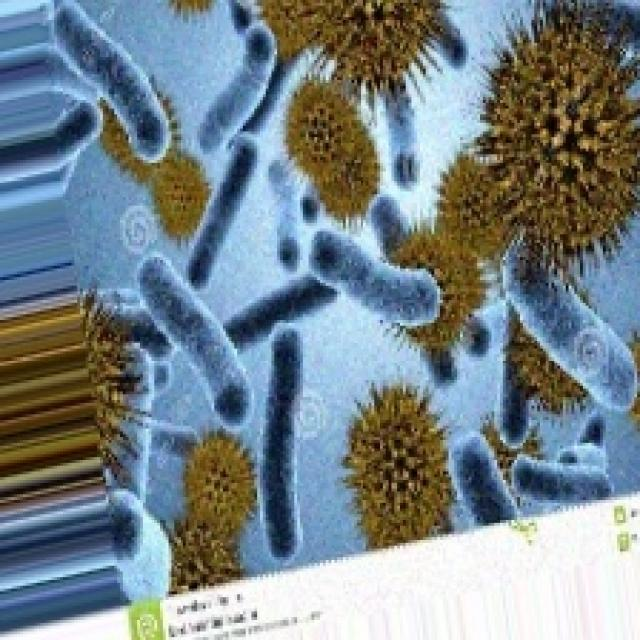Spherical_bacteria: (43, 0, 637, 603)
